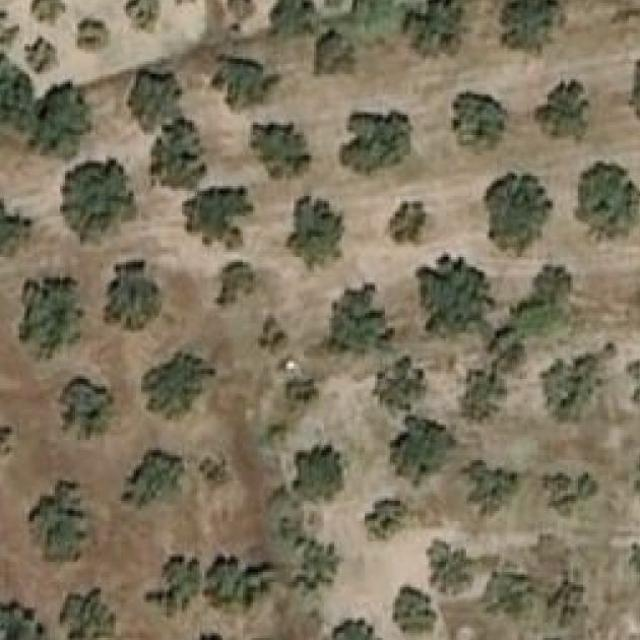Tree: (418, 255, 493, 341), (27, 477, 98, 567), (59, 160, 133, 245), (483, 174, 552, 258), (18, 272, 82, 362), (540, 344, 616, 419), (575, 160, 640, 240), (321, 286, 395, 356), (140, 350, 214, 420), (382, 414, 453, 486), (338, 110, 412, 174), (28, 82, 92, 156), (204, 550, 273, 610), (143, 550, 202, 620), (286, 196, 344, 267), (102, 260, 158, 331), (189, 186, 250, 250), (118, 450, 182, 509), (400, 0, 461, 60), (250, 122, 311, 181), (451, 92, 507, 156), (534, 79, 588, 143), (59, 377, 113, 441), (157, 120, 206, 189), (458, 460, 517, 516), (60, 587, 116, 640), (294, 443, 342, 504), (507, 0, 563, 52), (544, 463, 596, 519), (478, 572, 534, 621), (426, 540, 474, 596), (222, 59, 274, 110), (456, 372, 505, 426), (133, 69, 177, 128), (377, 357, 426, 408), (392, 585, 436, 636), (1, 56, 29, 135), (214, 262, 260, 308), (390, 201, 436, 245), (524, 262, 573, 303), (0, 597, 45, 640), (543, 579, 581, 628), (301, 540, 341, 585), (364, 501, 407, 541), (194, 450, 233, 494), (0, 198, 33, 249), (487, 331, 525, 375), (257, 316, 291, 362), (321, 617, 387, 640), (319, 32, 355, 72), (123, 0, 158, 34), (26, 37, 60, 72), (30, 0, 69, 28), (77, 18, 108, 52), (278, 516, 307, 550), (228, 0, 257, 21), (629, 538, 640, 588), (0, 426, 18, 455)
